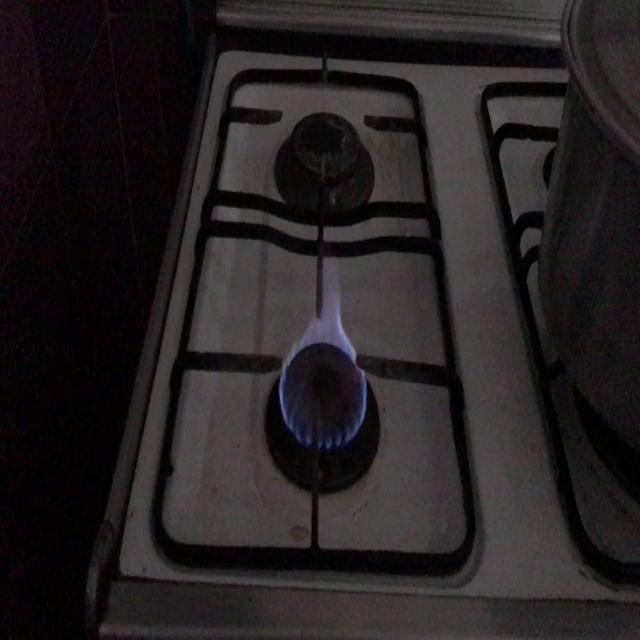Fire: (268, 264, 380, 460)
